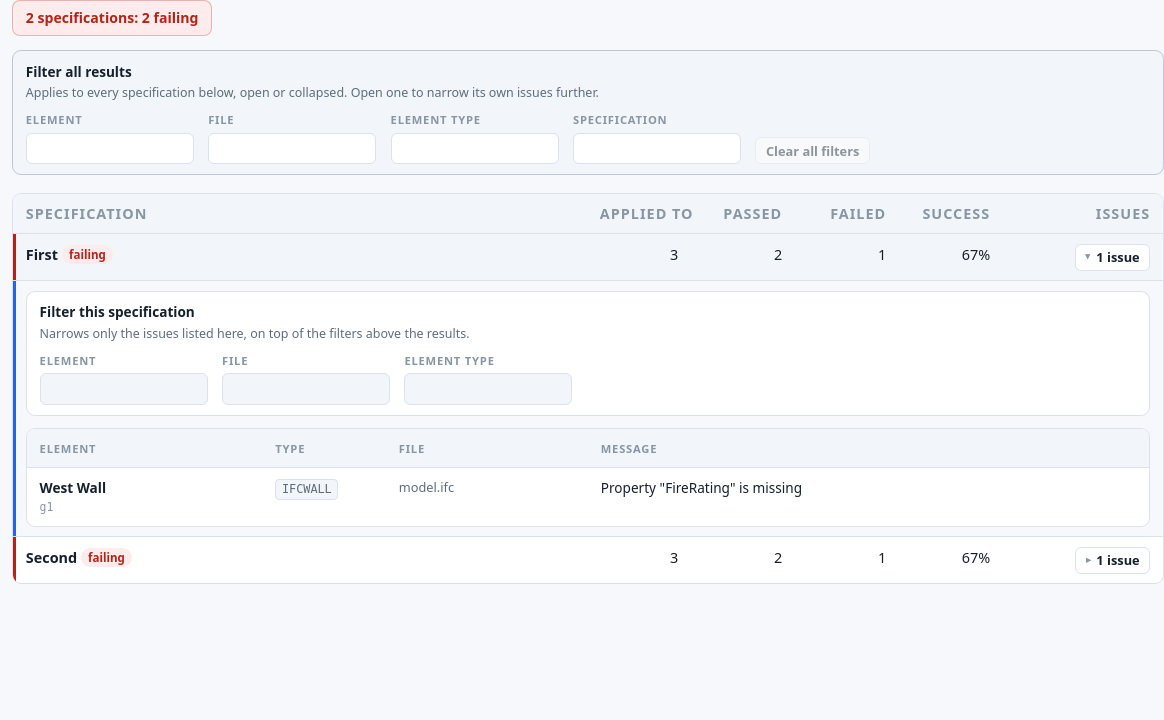
Test: CheckSummary › says how much the global filter is hiding, and clears it on request
The width and height of the screenshot is (1164, 720).
Type "East" into the field named "Filter all results by element name or GlobalId".
click(110, 148); type("East")  # box top-left (26, 133), bottom-right (194, 164)
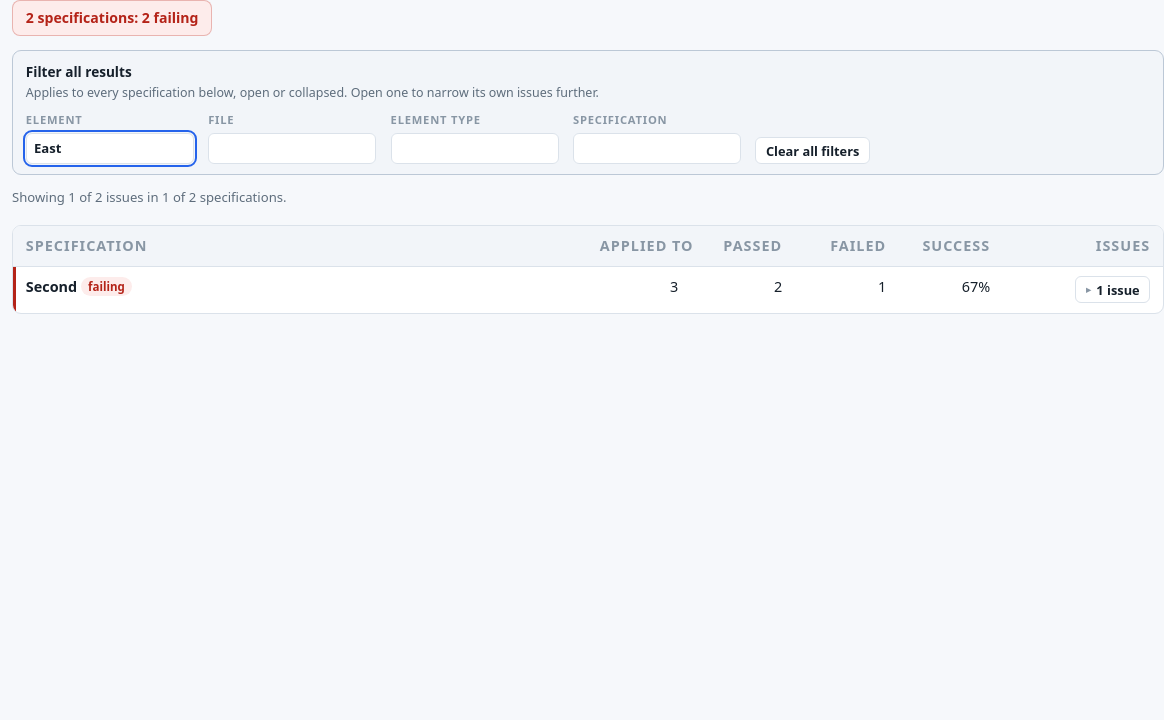
expect the text "Showing 1 of 2 issues in 1 of 2 specifications." is shown: met, box top-left (12, 188), bottom-right (287, 206)
Click the button "Clear all filters".
click(813, 151)  # box top-left (755, 137), bottom-right (870, 164)
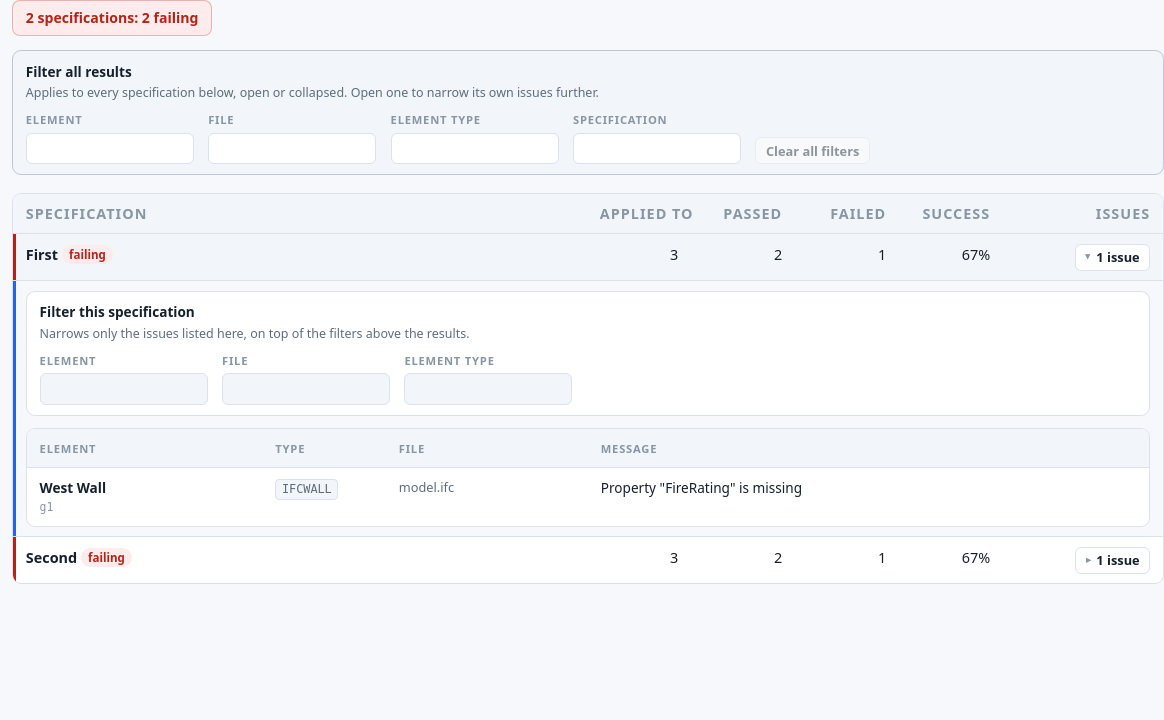
expect the text "First" is shown: met, box top-left (26, 245), bottom-right (58, 264)
expect the text "Showing 1 of 2 issues" is gone: met
